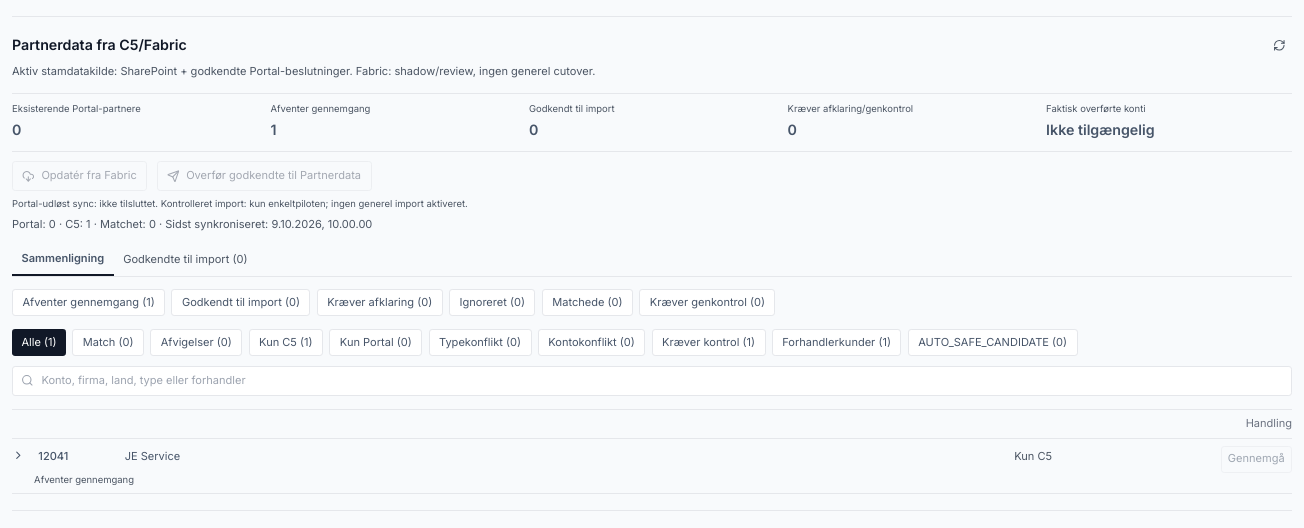
Test: Backend read-only Fabric comparison › combines search and status filter without altering source data
The image size is (1304, 528).
Expected: the text "JE Service" is shown, [125, 449, 180, 463]
Click the button "Kun C5 (1)" at [286, 343], box [249, 329, 323, 356]
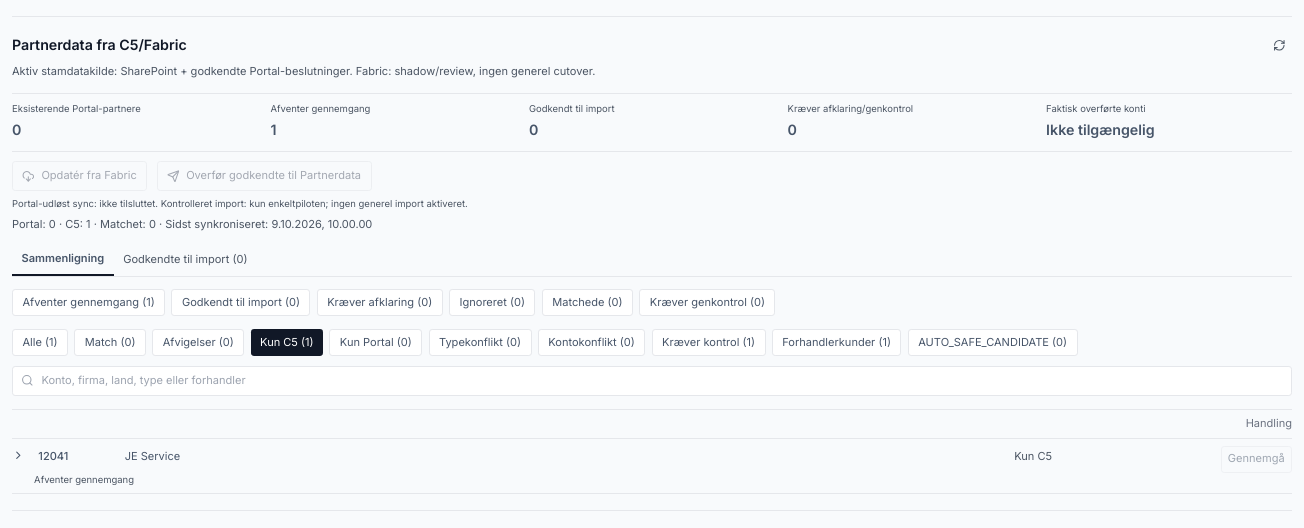
Type "12041" into the field at [652, 381], box [12, 366, 1292, 396]
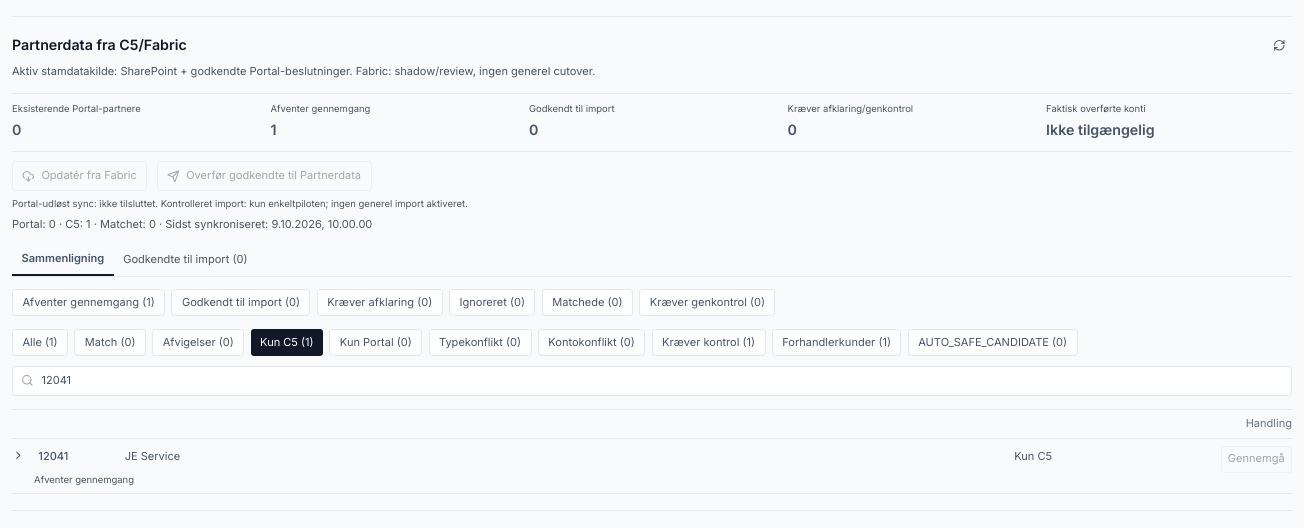
Expected: the text "JE Service" is shown, [125, 449, 180, 463]
Replace the text in the field with "99999" at [652, 381], box [12, 366, 1292, 396]
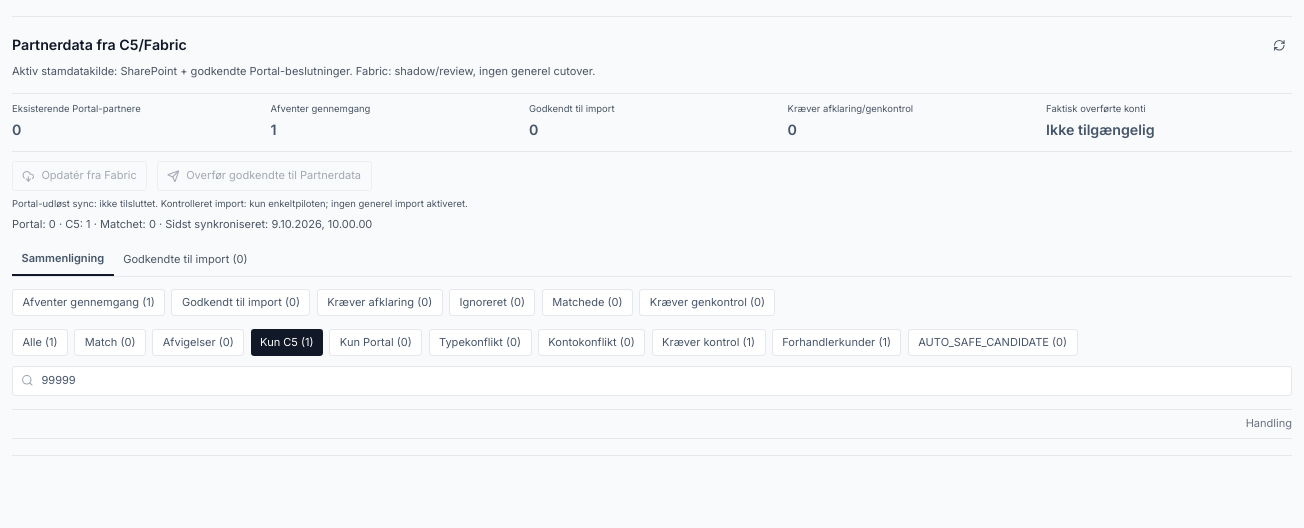
Result: the button "JE Service" is gone
